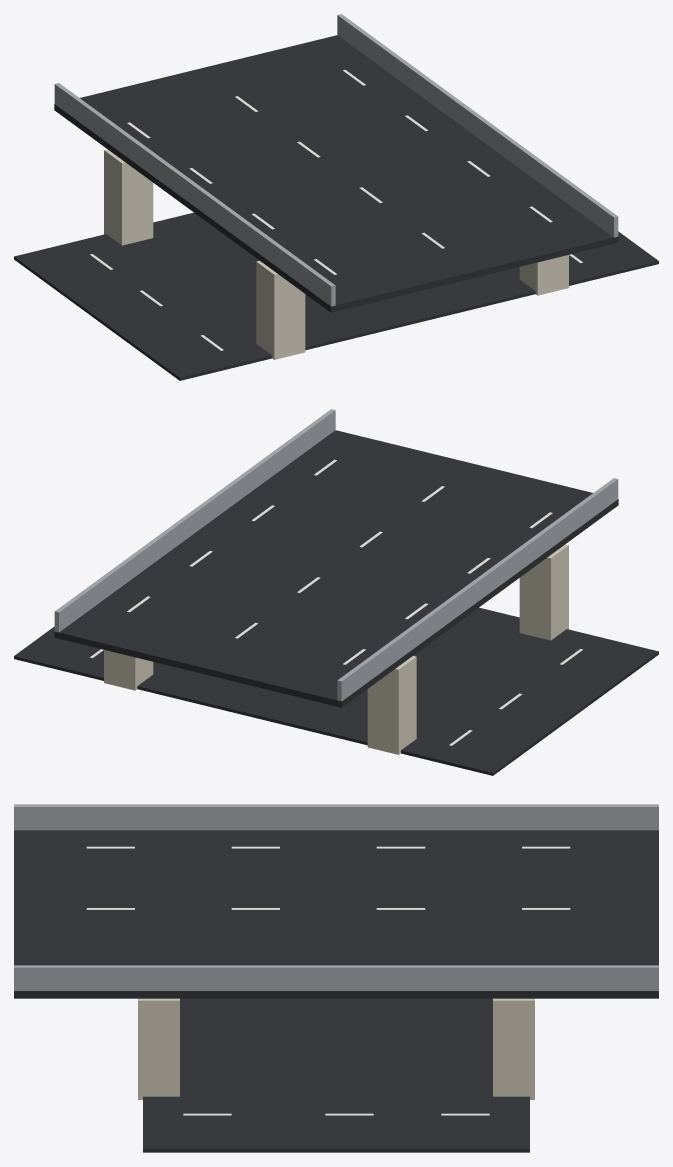
File: road.interchange-double.glb
3 views of the same model, one above another, from view 1: azimuth 30°, elevation 25°; view 2: azimuth 150°, elevation 25°; view 3: azimuth 270°, elevation 25° (orthographic). The views are drawn at different scales.
Parts seen in each view (by area): view 1: road.interchange-double; view 2: road.interchange-double; view 3: road.interchange-double.
Part boxes in pixels (x1,y1,x2,y2): road.interchange-double: (14, 14, 658, 380); road.interchange-double: (14, 409, 658, 775); road.interchange-double: (14, 804, 658, 1152).
Bounding box in the file's own units: 20 × 4.45 × 20.
